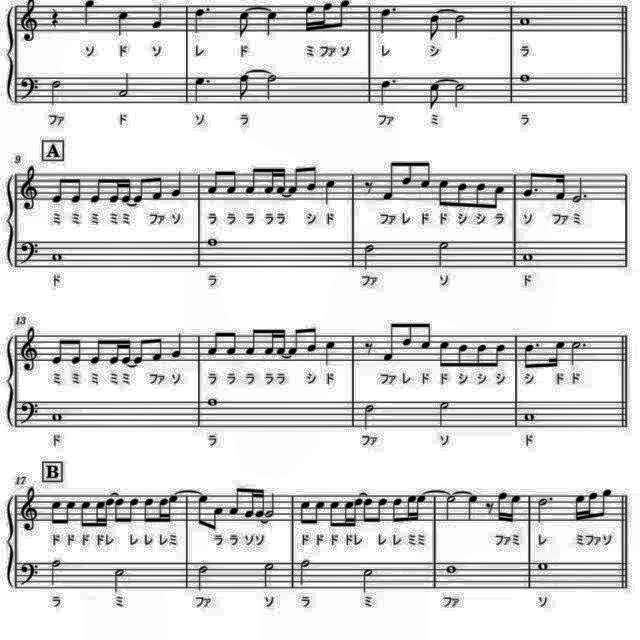Bass-clef: (17, 73, 41, 103), (18, 560, 42, 588), (18, 399, 42, 427), (18, 238, 42, 266)
Eighth-note: (378, 156, 398, 204), (378, 318, 398, 364), (521, 168, 541, 200), (237, 9, 255, 41), (418, 318, 434, 354), (425, 80, 443, 112), (418, 157, 434, 191), (243, 163, 259, 197), (51, 336, 68, 368), (51, 172, 68, 204), (286, 325, 302, 359), (286, 165, 302, 199), (521, 341, 539, 371), (196, 492, 210, 530), (89, 334, 105, 366), (69, 176, 85, 208), (243, 324, 259, 356), (228, 484, 244, 516), (436, 176, 452, 208), (436, 338, 452, 370), (598, 486, 614, 518), (425, 12, 443, 40), (206, 328, 222, 359), (90, 173, 106, 204), (206, 167, 222, 197), (454, 179, 470, 209), (338, 0, 354, 30), (400, 160, 416, 190), (148, 173, 164, 203), (140, 495, 156, 525), (132, 175, 148, 205), (298, 497, 314, 527), (70, 334, 84, 368), (492, 342, 508, 370), (306, 324, 320, 356), (490, 182, 506, 210), (77, 499, 91, 531), (306, 162, 320, 194), (389, 494, 403, 526), (49, 498, 63, 530), (111, 494, 125, 526), (127, 497, 141, 528), (238, 73, 252, 104), (474, 181, 488, 211), (224, 328, 238, 358), (224, 169, 238, 199), (401, 320, 415, 350), (133, 336, 147, 366), (150, 333, 164, 363), (63, 498, 77, 528), (375, 496, 389, 526), (326, 499, 339, 531), (361, 494, 374, 526), (456, 342, 470, 370), (475, 342, 489, 370), (212, 503, 226, 531), (313, 500, 327, 528)
Eighth-rest: (360, 177, 376, 197), (484, 496, 496, 522), (360, 339, 376, 358)
Full-note: (517, 13, 533, 27), (444, 562, 460, 576), (204, 394, 220, 408), (534, 559, 550, 573), (522, 410, 538, 424), (518, 71, 534, 85), (520, 249, 536, 263), (50, 411, 66, 425), (50, 249, 66, 263), (204, 236, 220, 248)
Half-dot: (533, 494, 555, 526), (570, 176, 590, 208), (567, 337, 587, 367)
Half-note: (46, 556, 64, 588), (359, 242, 377, 274), (434, 240, 452, 272), (118, 68, 136, 100), (46, 78, 64, 109), (359, 401, 377, 432), (264, 74, 282, 104), (109, 566, 127, 596), (442, 493, 460, 522), (262, 558, 278, 590), (296, 556, 312, 588), (359, 566, 376, 596), (452, 81, 468, 111), (436, 400, 452, 430), (196, 564, 212, 594), (449, 12, 466, 40)
Quarter-dot: (374, 1, 398, 35), (376, 75, 399, 107), (192, 4, 214, 36), (191, 74, 213, 105)
Quarter-note: (264, 8, 282, 40), (113, 8, 131, 40), (78, 0, 98, 28), (148, 1, 166, 32), (170, 169, 187, 199), (170, 331, 186, 362), (322, 337, 338, 367), (322, 175, 338, 205), (466, 493, 479, 522)
Quarter-rest: (49, 7, 63, 30)
Sixteenth-note: (493, 489, 511, 526), (301, 3, 319, 37), (552, 170, 570, 202), (549, 338, 567, 370), (250, 486, 266, 522), (508, 491, 524, 525), (318, 0, 334, 32), (264, 326, 280, 358), (264, 164, 280, 196), (570, 492, 586, 524), (584, 490, 600, 522), (412, 492, 428, 524), (243, 486, 257, 522), (274, 165, 288, 198), (274, 328, 288, 359), (107, 173, 121, 203), (121, 175, 135, 205), (156, 493, 168, 525), (406, 492, 418, 524), (342, 499, 354, 531), (108, 335, 120, 365), (122, 336, 134, 366), (94, 499, 106, 529)
Treble-clef: (18, 163, 42, 213), (17, 326, 41, 374), (17, 484, 41, 532), (19, 0, 43, 44)
